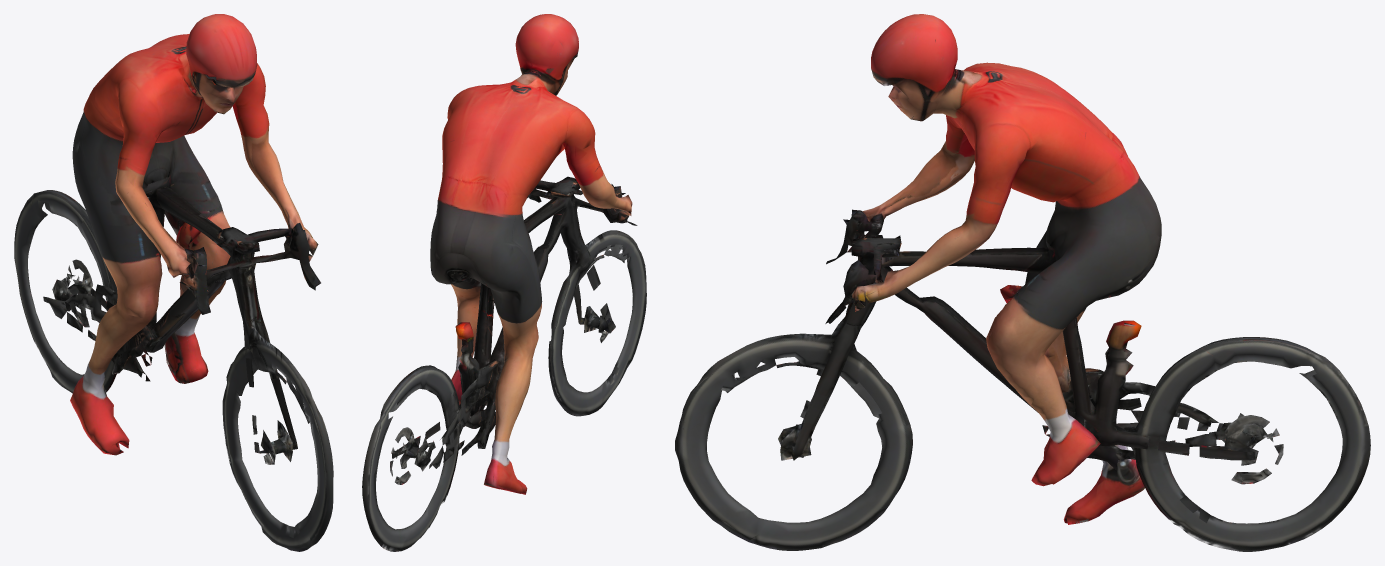
3 views of the same model, side by side, from view 1: azimuth 30°, elevation 25°; view 2: azimuth 150°, elevation 25°; view 3: azimuth 270°, elevation 25° (orthographic). The views are drawn at different scales.
Bounding box in the file's own units: 0.5944 × 1.69 × 2.
Materials: 1 (1 with a texture image).
